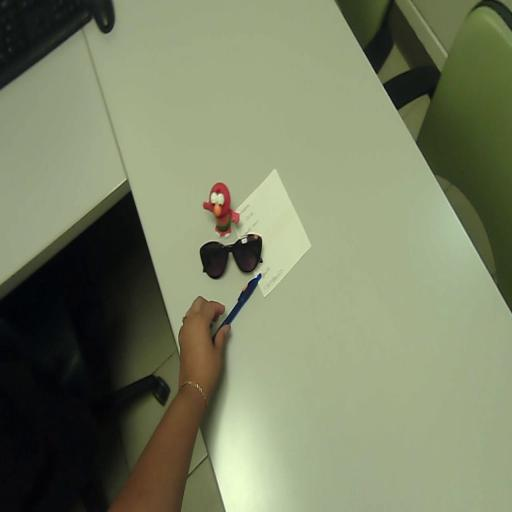pen: (212, 272, 261, 340)
